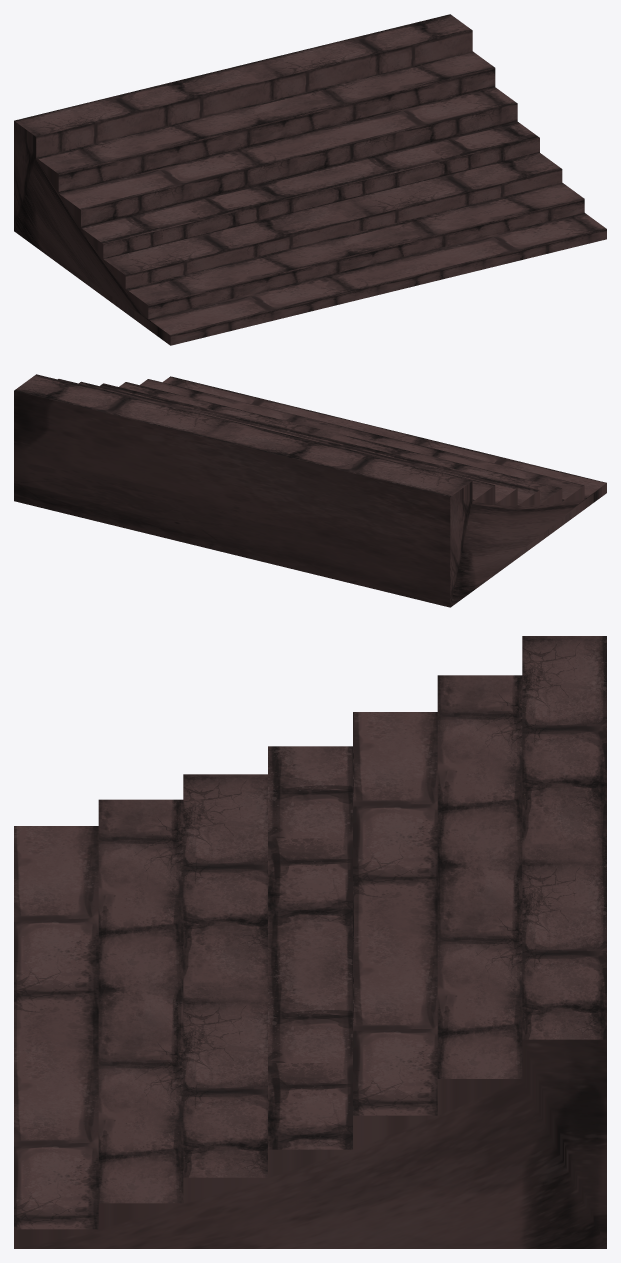
Rendered from MOD_L1_Stairs.fbx.
The picture shows the model from 3 angles, top to bottom: view 1: azimuth 30°, elevation 25°; view 2: azimuth 150°, elevation 25°; view 3: azimuth 270°, elevation 25°; orthographic projection. The views are drawn at different scales.
Parts seen in each view (by area): view 1: Stairs01; view 2: Stairs01; view 3: Stairs01.
Part boxes in pixels (left/top/right/bottom): Stairs01: left=14, top=14, right=606, bottom=345; Stairs01: left=14, top=374, right=606, bottom=607; Stairs01: left=14, top=636, right=606, bottom=1248.
Bounding box in the file's own units: 38 × 9.2 × 23.61.
